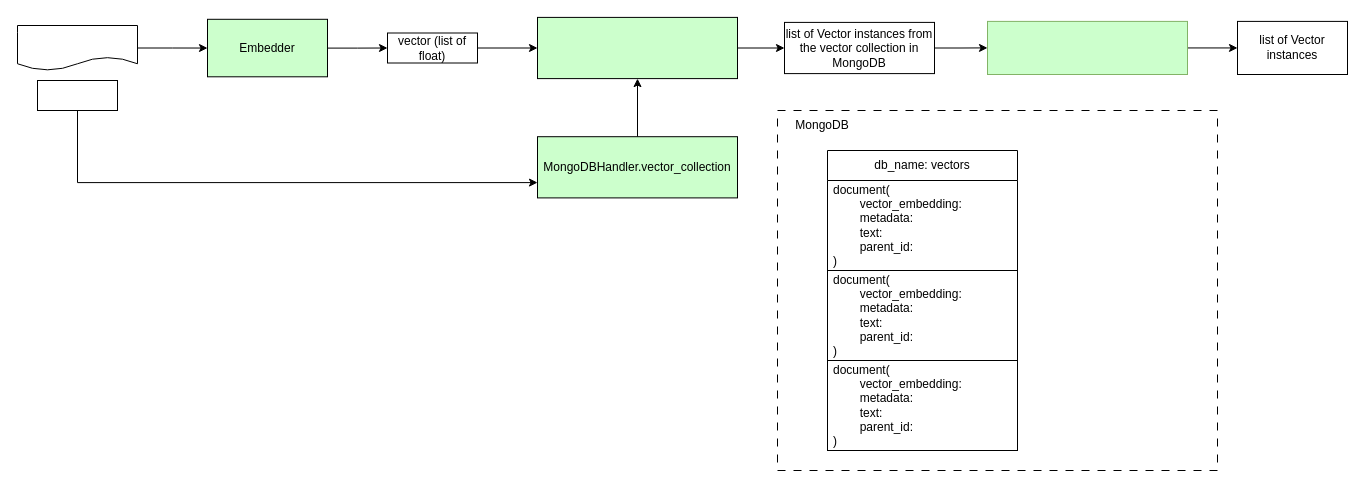
This 1365x489 diagram has some shape labels left out. Here are the shapes that lost their labels. From the top down, the box of each, then its label:
(16, 24, 138, 70): query
(536, 16, 738, 79): NNRetriever k = 10
(986, 20, 1188, 74): Cohere Reranker model="rerank-english-v3.0" k=3
(36, 80, 118, 110): database name
